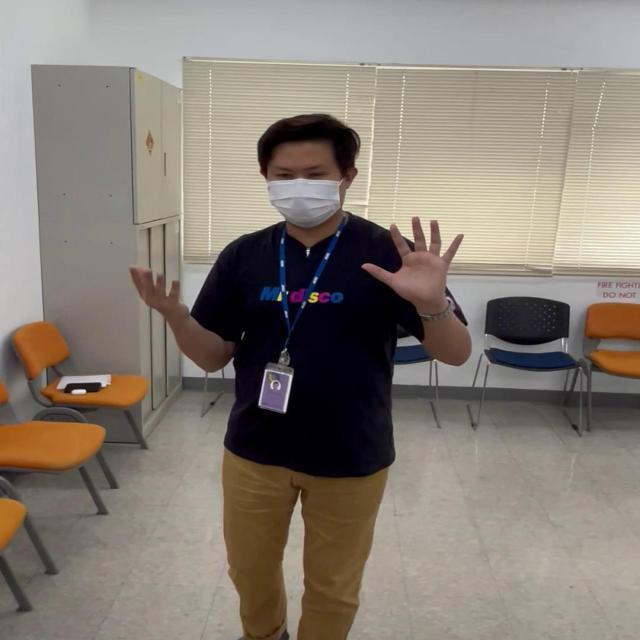bare_hand: (361, 213, 465, 304), (126, 257, 187, 319)
